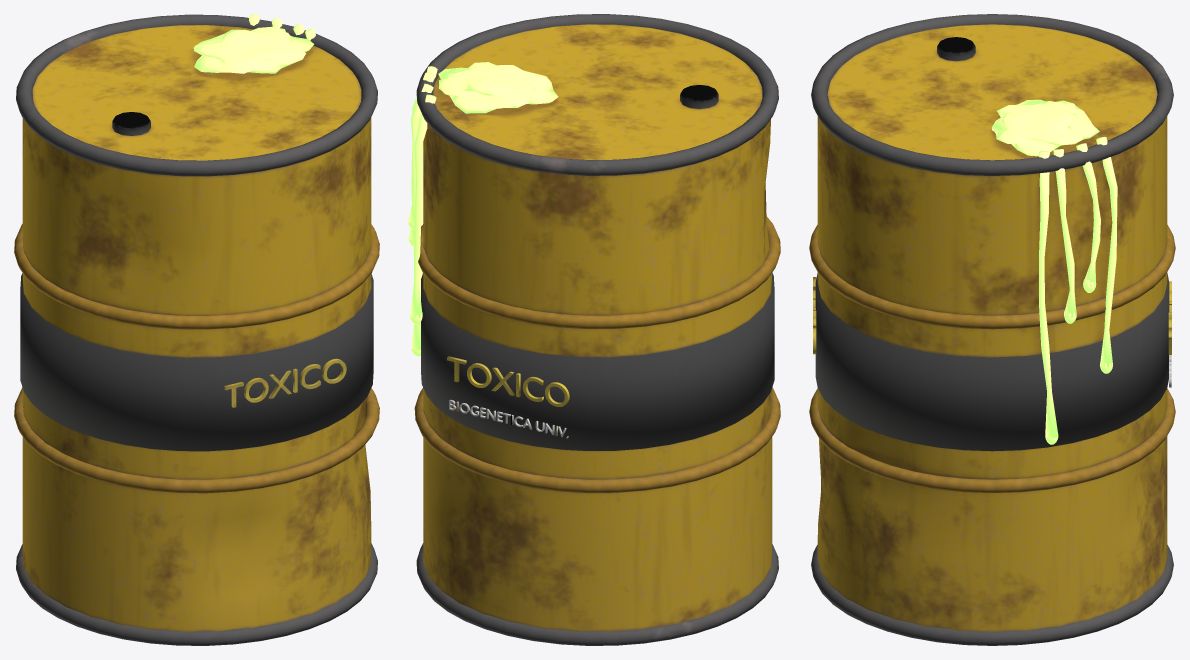
Rendered from barril_toxico.glb.
3 renders of one model, left to right at view 1: azimuth 30°, elevation 25°; view 2: azimuth 150°, elevation 25°; view 3: azimuth 270°, elevation 25°, orthographic.
Parts seen in each view (by area): view 1: barril_toxico; view 2: barril_toxico; view 3: barril_toxico.
Part boxes in pixels (x1,y1,x2,y2): barril_toxico: (14, 14, 379, 645); barril_toxico: (408, 14, 780, 645); barril_toxico: (809, 14, 1175, 645).
Size of the model in its own units: 0.608 by 0.9057 by 0.608.
Materials: 2 (1 with a texture image).
